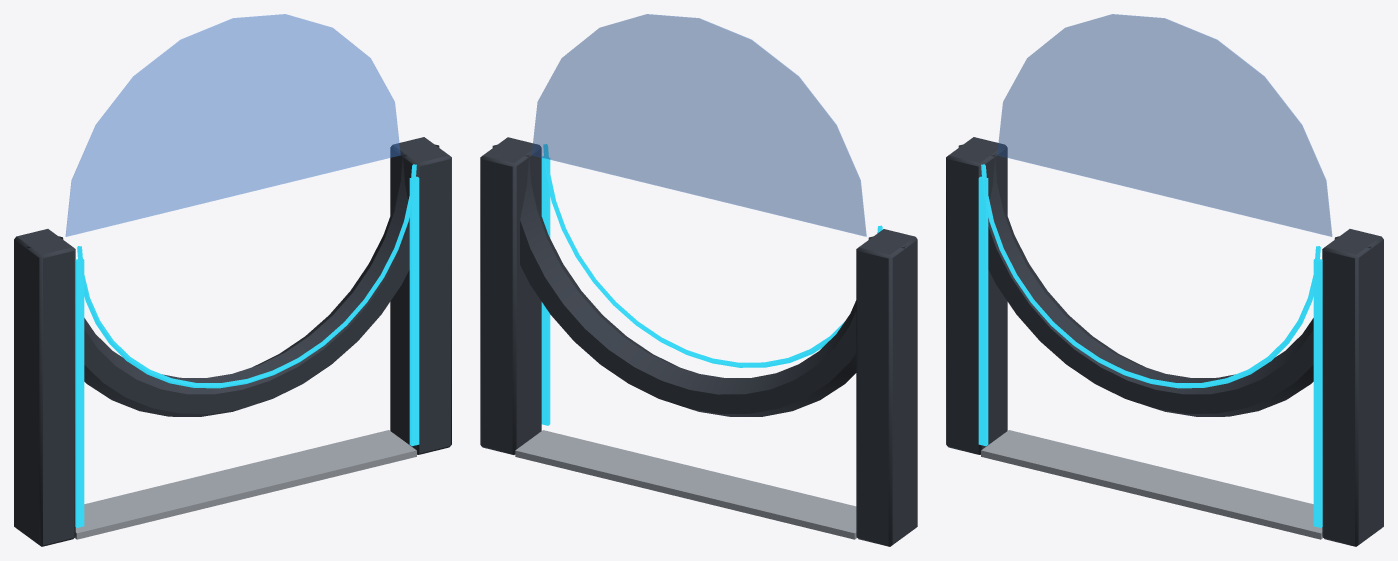
File: forcefield_hangar_field_arch.glb
3 renders of one model, left to right at view 1: azimuth 30°, elevation 25°; view 2: azimuth 150°, elevation 25°; view 3: azimuth 330°, elevation 25°, orthographic.
Parts seen in each view (by area): view 1: forcefield_hangar_field_arch; view 2: forcefield_hangar_field_arch; view 3: forcefield_hangar_field_arch.
Part boxes in pixels (box(x1,y1,x2,y2)): forcefield_hangar_field_arch: box(14, 14, 451, 546); forcefield_hangar_field_arch: box(480, 14, 917, 546); forcefield_hangar_field_arch: box(946, 14, 1383, 546).
Bounding box in the file's own units: 3.4 × 3.7 × 0.42.
